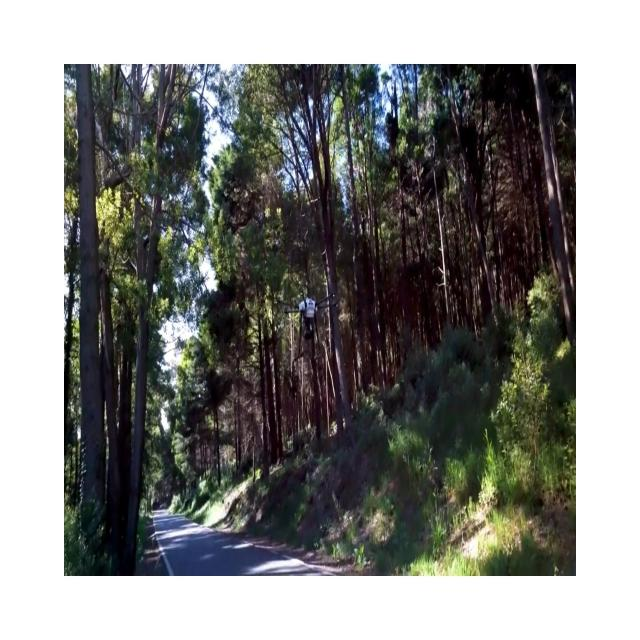drone: (275, 290, 338, 361)
